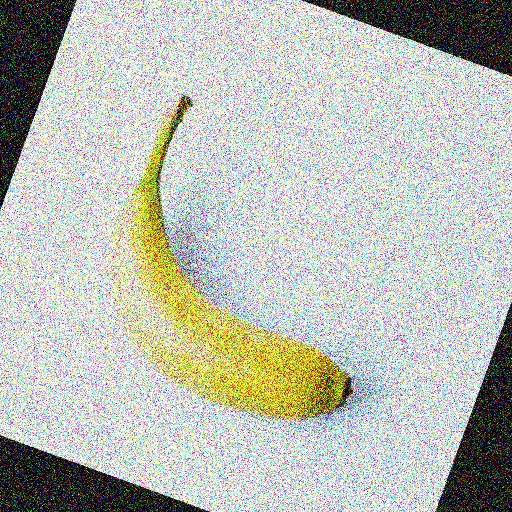fruit: (230, 199, 475, 512)
